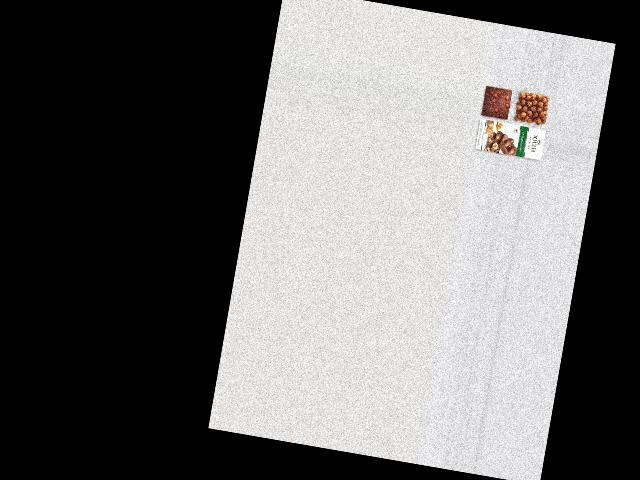chocolate: (479, 81, 513, 121)
